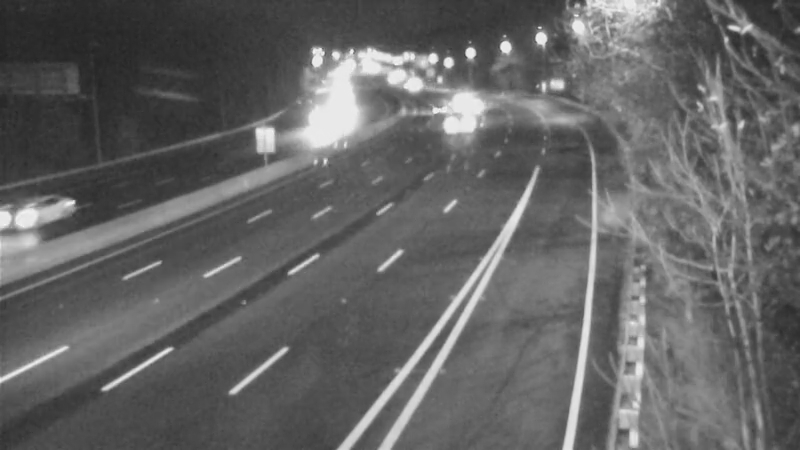vehicle: (4, 164, 84, 244), (434, 72, 484, 122), (446, 81, 496, 131), (413, 82, 463, 132), (430, 101, 480, 151)
